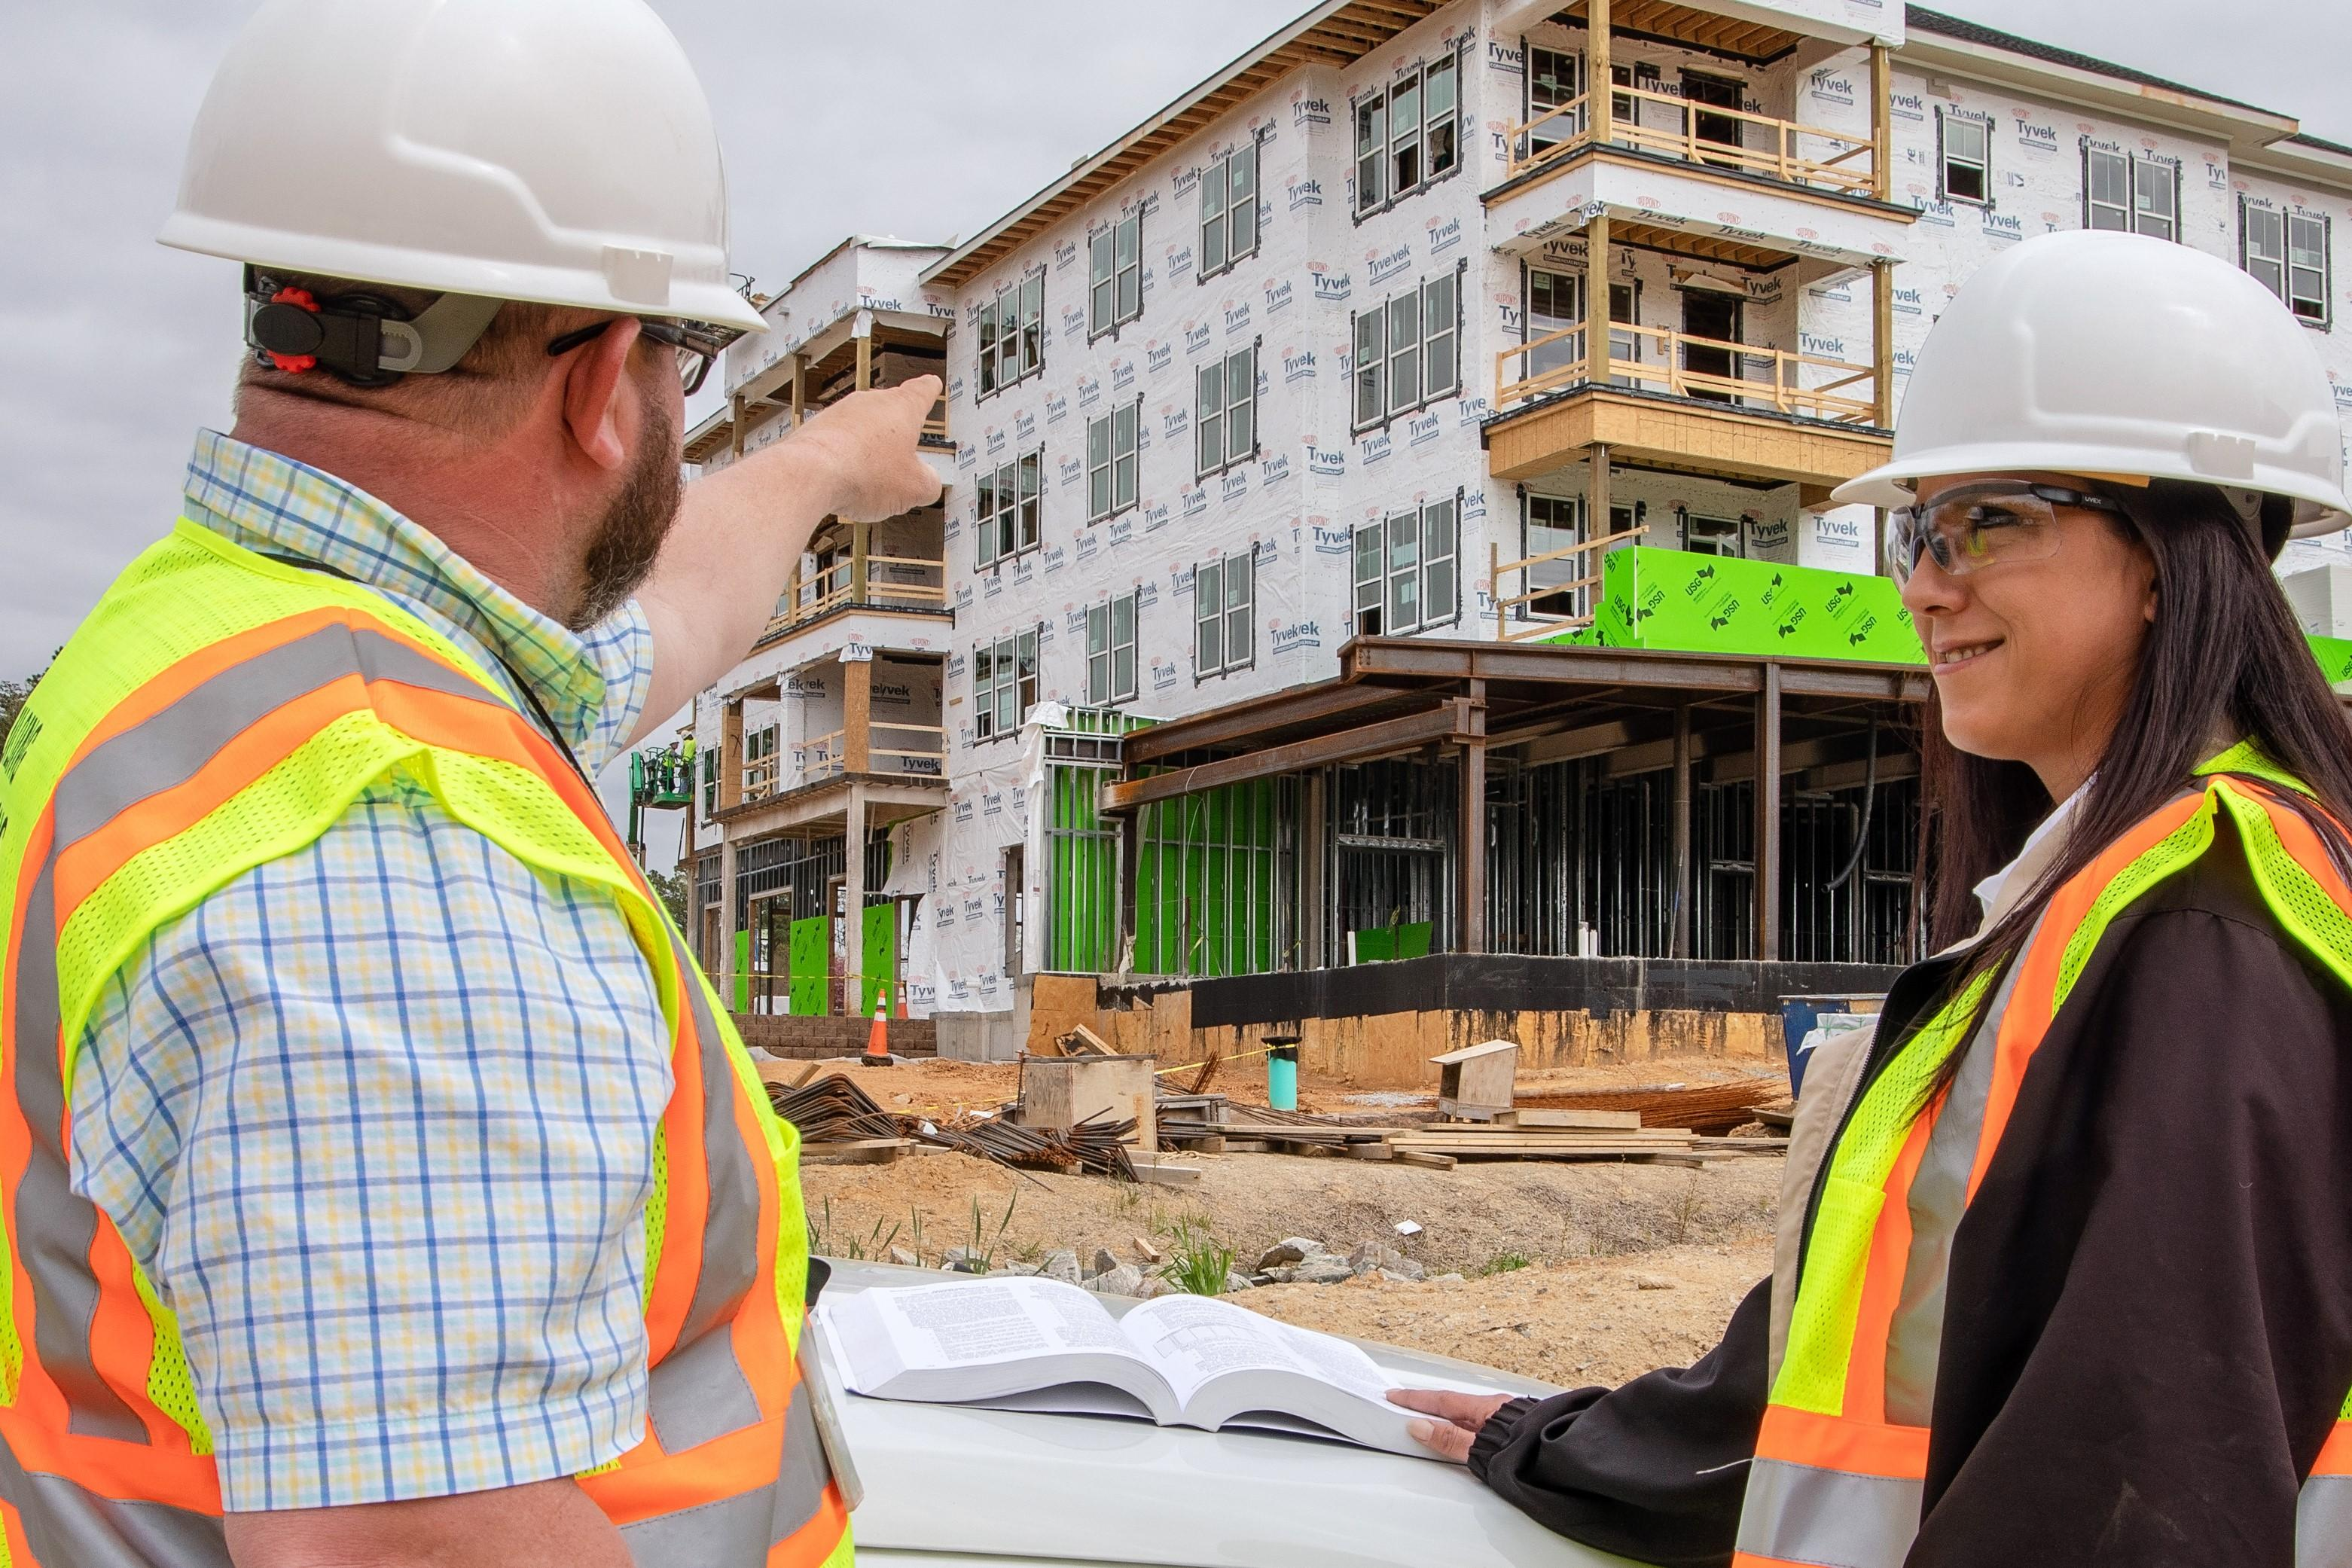helmet: (152, 4, 772, 308), (1832, 233, 2352, 541)
